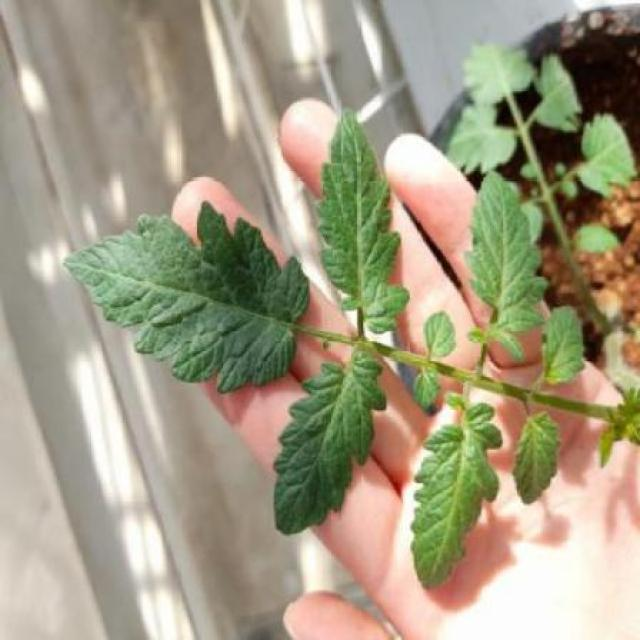Healthy: (65, 200, 309, 394), (316, 109, 410, 334), (273, 351, 386, 536), (411, 392, 504, 591), (464, 170, 549, 361), (541, 307, 586, 387)
